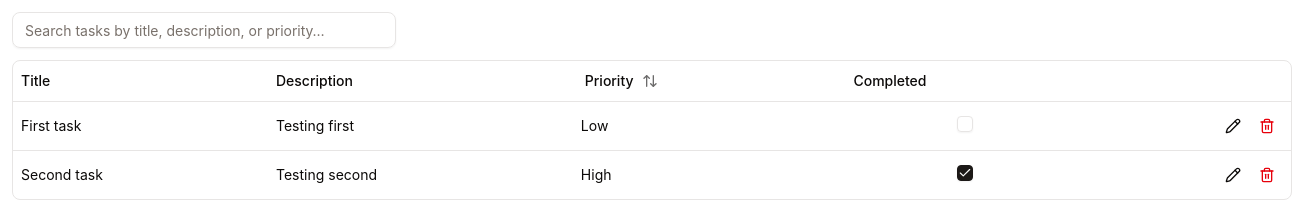
Scenario: TaskTable tests › should filter tasks when typing in search input
Type "first" into the search field with placeholder "Search tasks by title, description, or priority…" at (204, 30), box [12, 12, 396, 48]
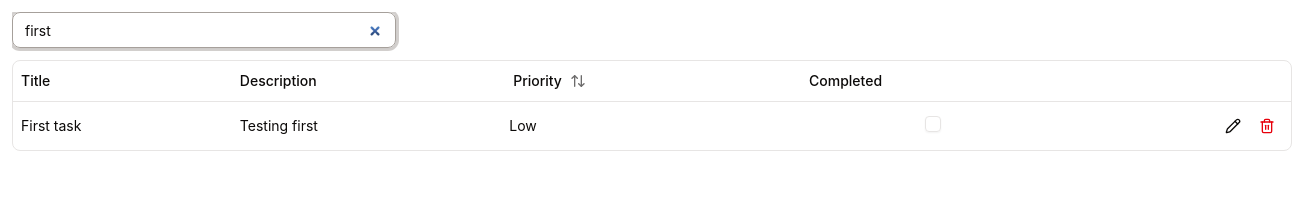
Check: the text "First task" is shown, box [13, 101, 232, 150]
Check: the text "Second task" is gone
